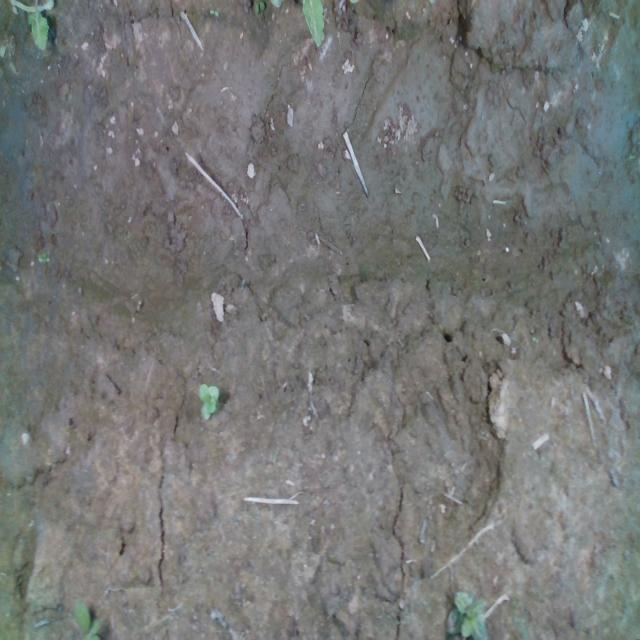weed: (529, 329, 545, 346), (36, 248, 48, 266)
